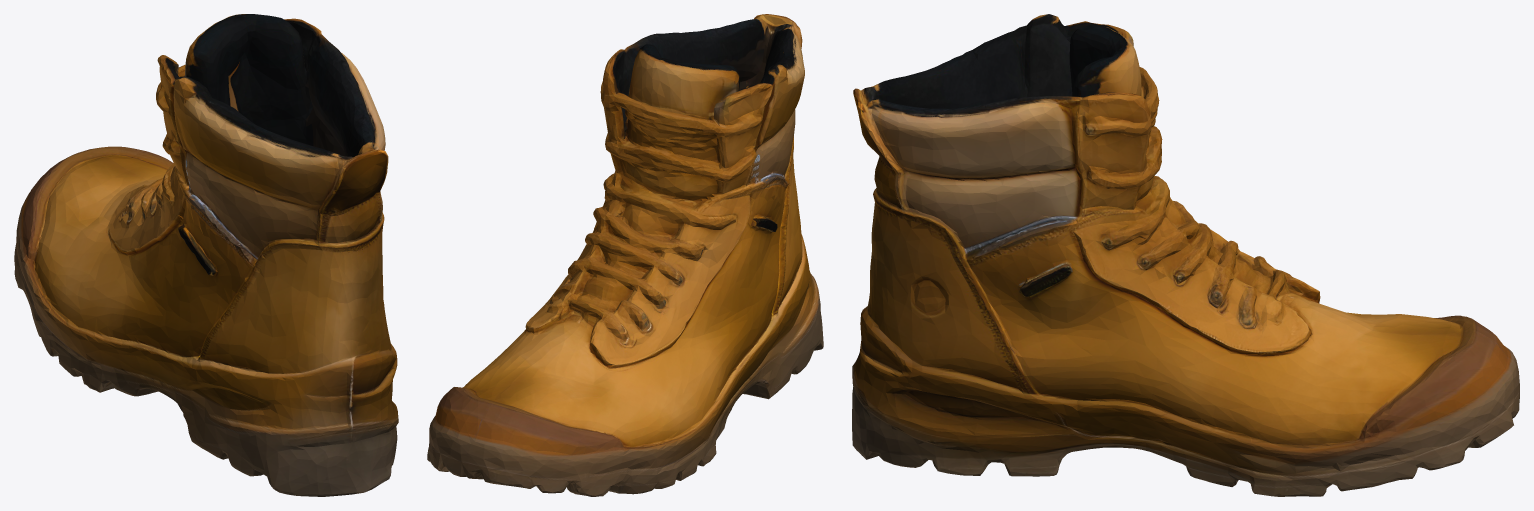
Rendered from boot.glb.
The picture shows the model from 3 angles, left to right: view 1: azimuth 30°, elevation 25°; view 2: azimuth 150°, elevation 25°; view 3: azimuth 270°, elevation 25°; orthographic projection. The views are drawn at different scales.
Parts seen in each view (by area): view 1: textured_mesh.obj; view 2: textured_mesh.obj; view 3: textured_mesh.obj.
Boxes of the visible parts, left/top/right/bottom form: textured_mesh.obj: left=14, top=14, right=398, bottom=496; textured_mesh.obj: left=427, top=14, right=823, bottom=496; textured_mesh.obj: left=852, top=14, right=1519, bottom=496.
Size of the model in its own units: 0.8086 by 1.33 by 1.99.
Materials: 1 (1 with a texture image).
